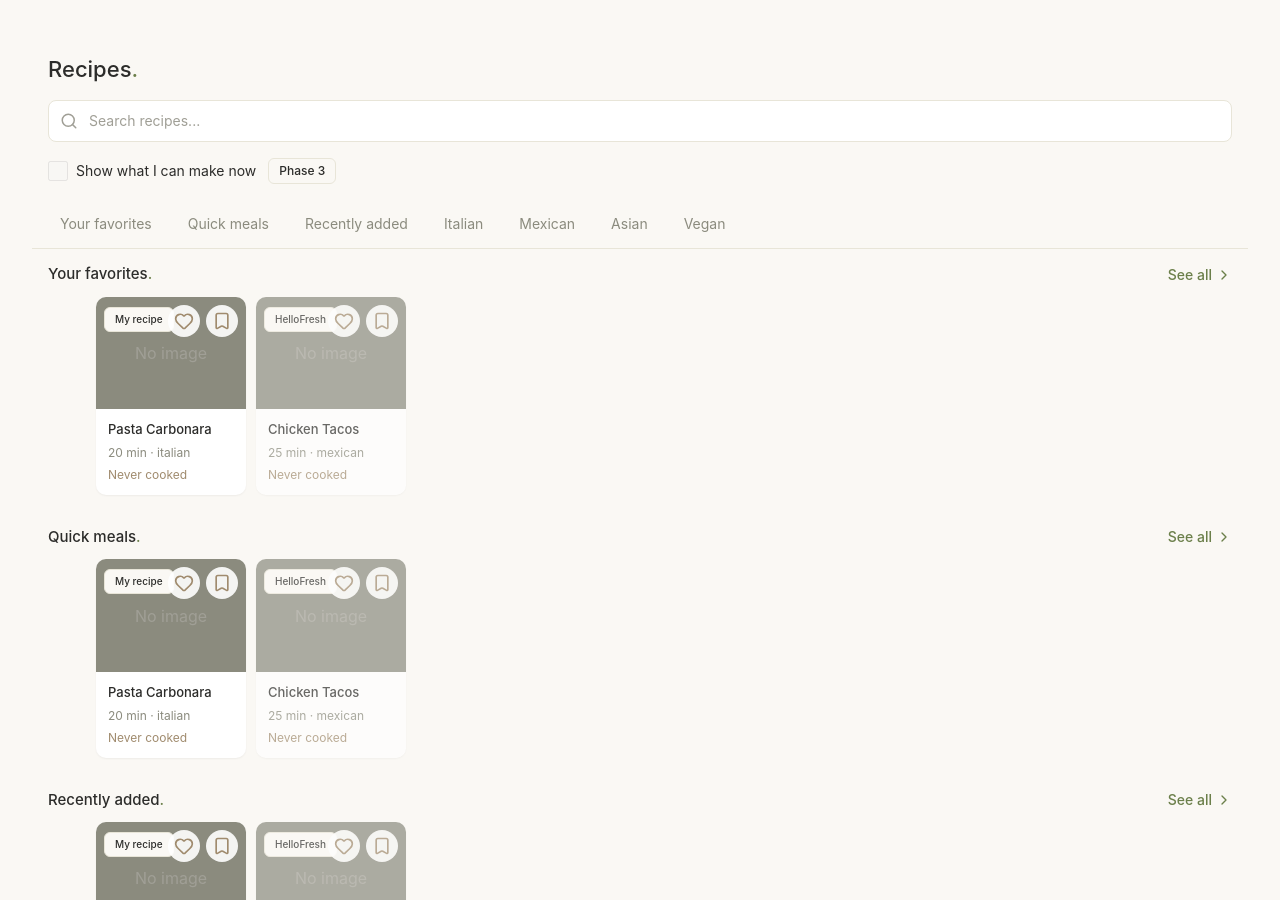
Scenario: Recipes Page › back button functionality › returns to carousel view when back button is clicked
Note: Enter grid mode via search
Type "chicken" into the field with placeholder "Search recipes..." at [640, 120], box [48, 100, 1232, 142]
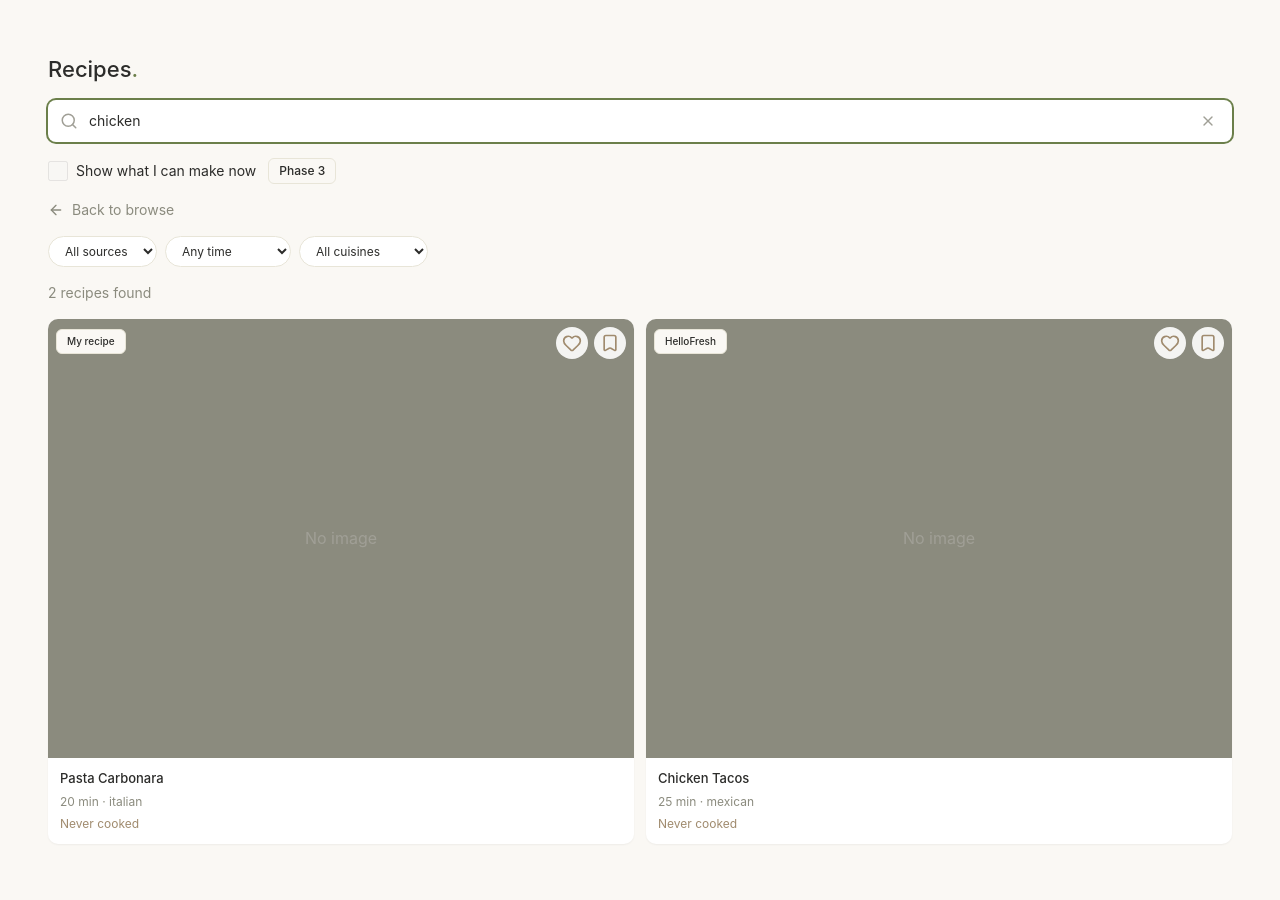
Check: the button with aria-label "Back to browse view" is shown
Note: Click back button
Click the button with aria-label "Back to browse view" at [111, 210], box [48, 200, 174, 220]
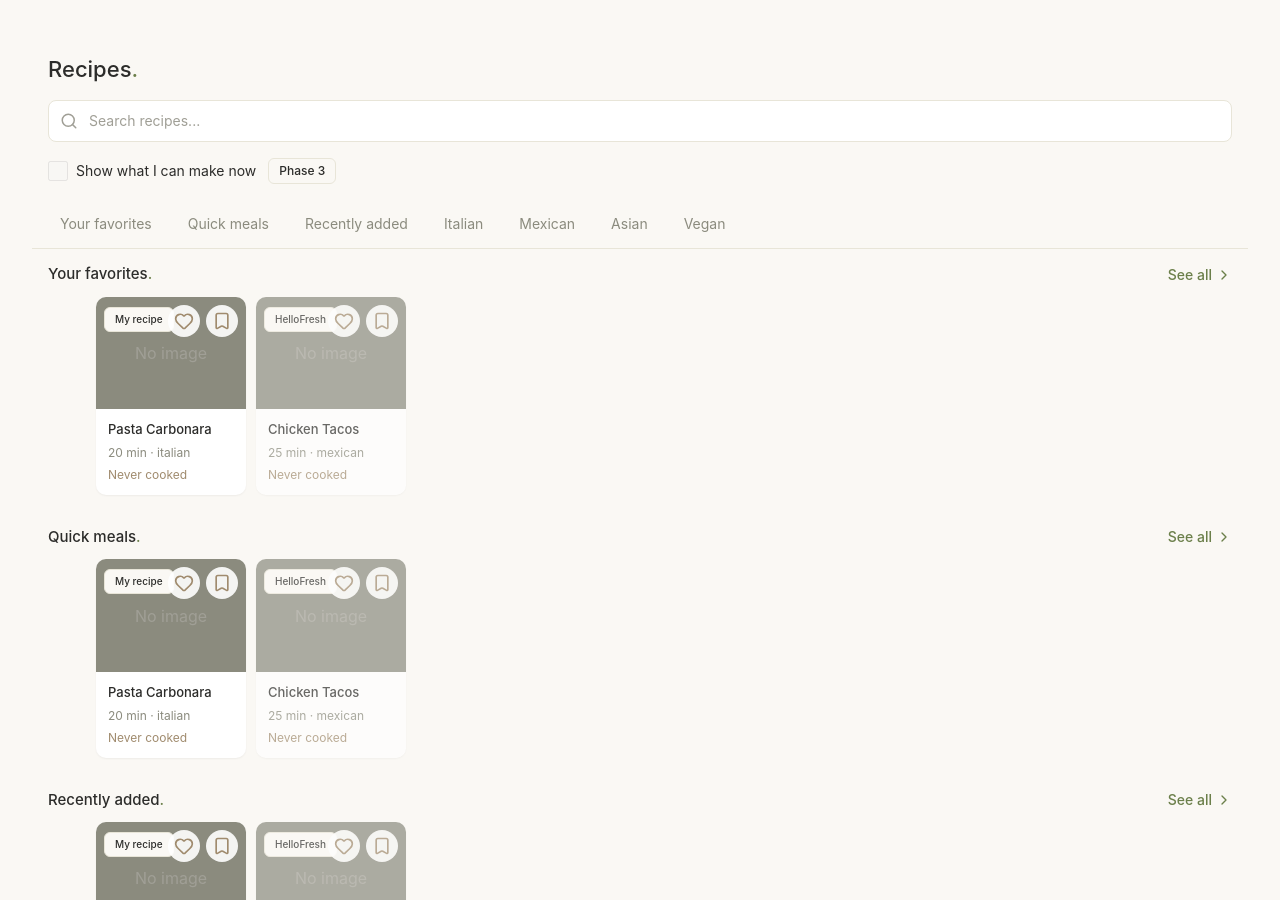
Check: the button "Your favorites" is shown, box [48, 208, 164, 240]
